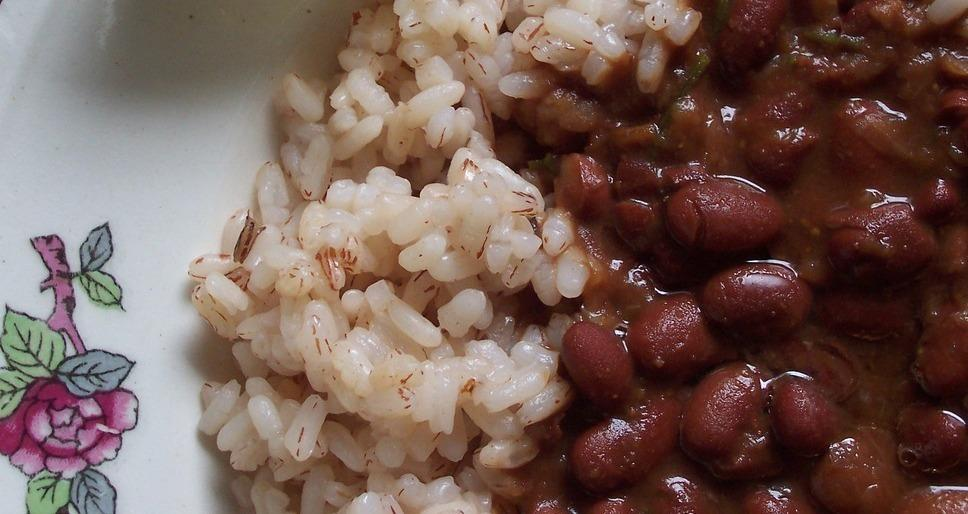rajma: (629, 100, 968, 514)
rice: (192, 0, 512, 514)
